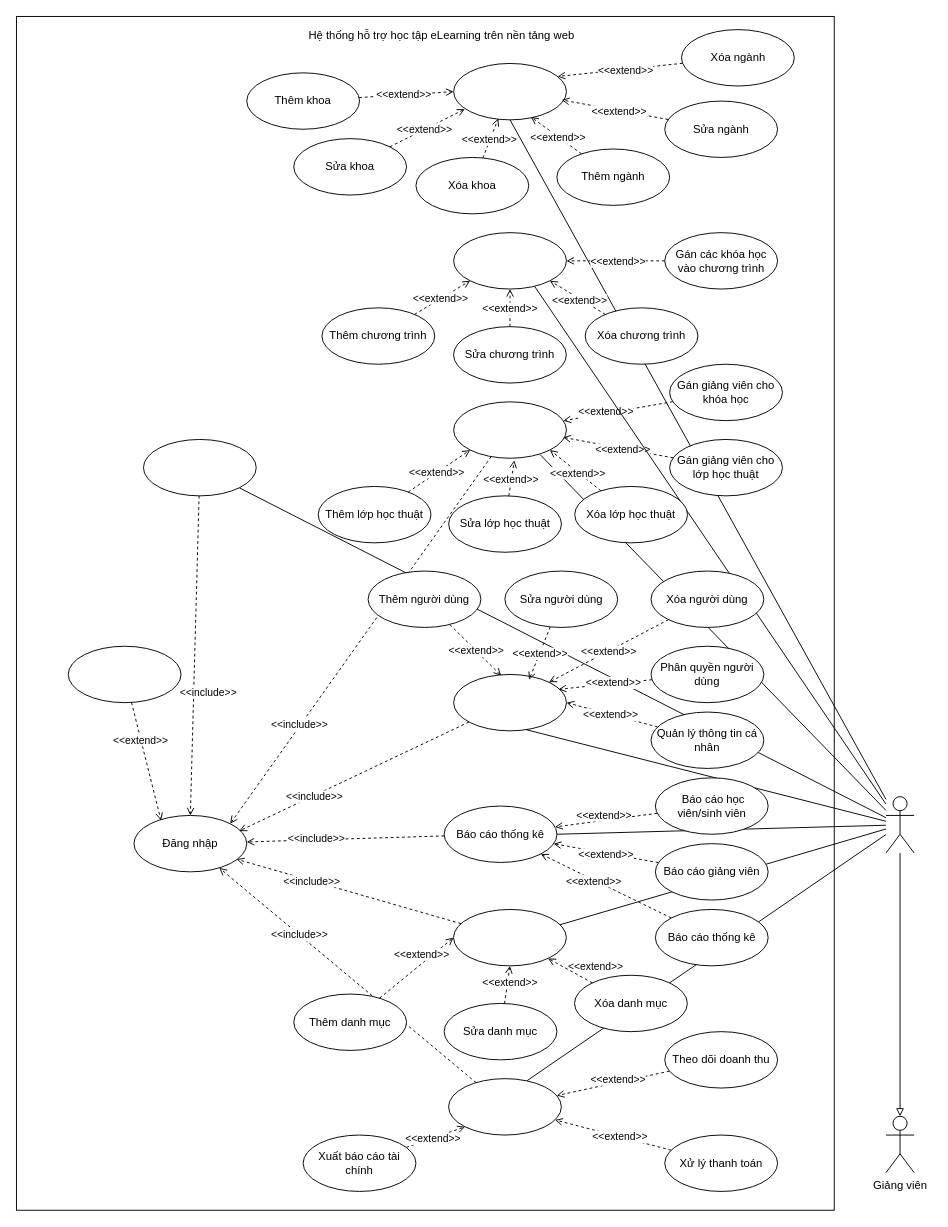
Image size: 948x1227. Some labels were removed from this diagram. The shapes that lost their labels are listed below. From the top down, each one's centre as x and y in pixels, then its label:
(x=509, y=91): Quản lý khoa, ngành
(x=509, y=260): Quản lý chương trình đào tạo
(x=509, y=429): Phân công giảng dạy và lớp học thuật
(x=199, y=467): Tương tác với chatbot
(x=124, y=674): Quên mật khẩu
(x=509, y=702): Quản lý người dùng
(x=899, y=824): Quản trị viên
(x=509, y=937): Quản lý danh mục
(x=504, y=1106): Quản lý tài chính
